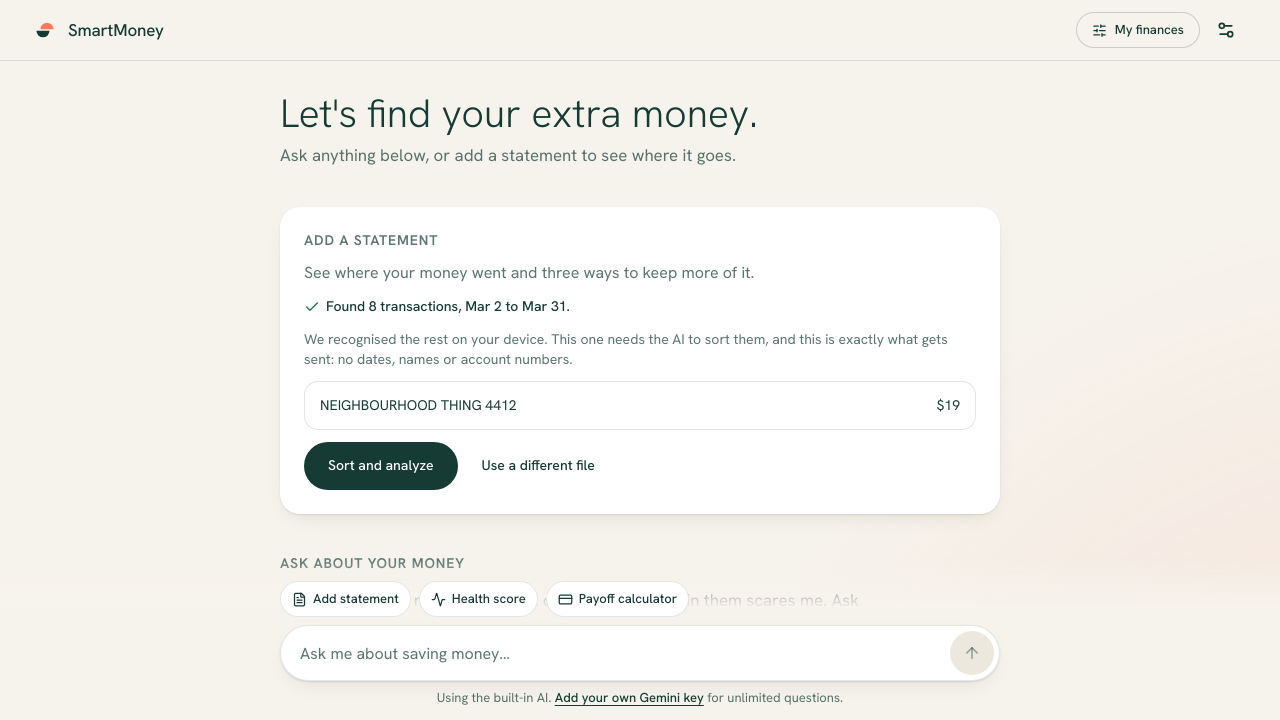
Test: statements › shows exactly what will be sent, then the analysis and fixes
Earlier steps of the test are not shown.
Expected: the number of list items is 1, top-left (320, 396), bottom-right (960, 414)
Expected: the text "NEIGHBOURHOOD THING 4412" is shown, top-left (320, 395), bottom-right (517, 416)
Click the button "Sort and analyze".
click(381, 466)  # box top-left (304, 442), bottom-right (458, 490)
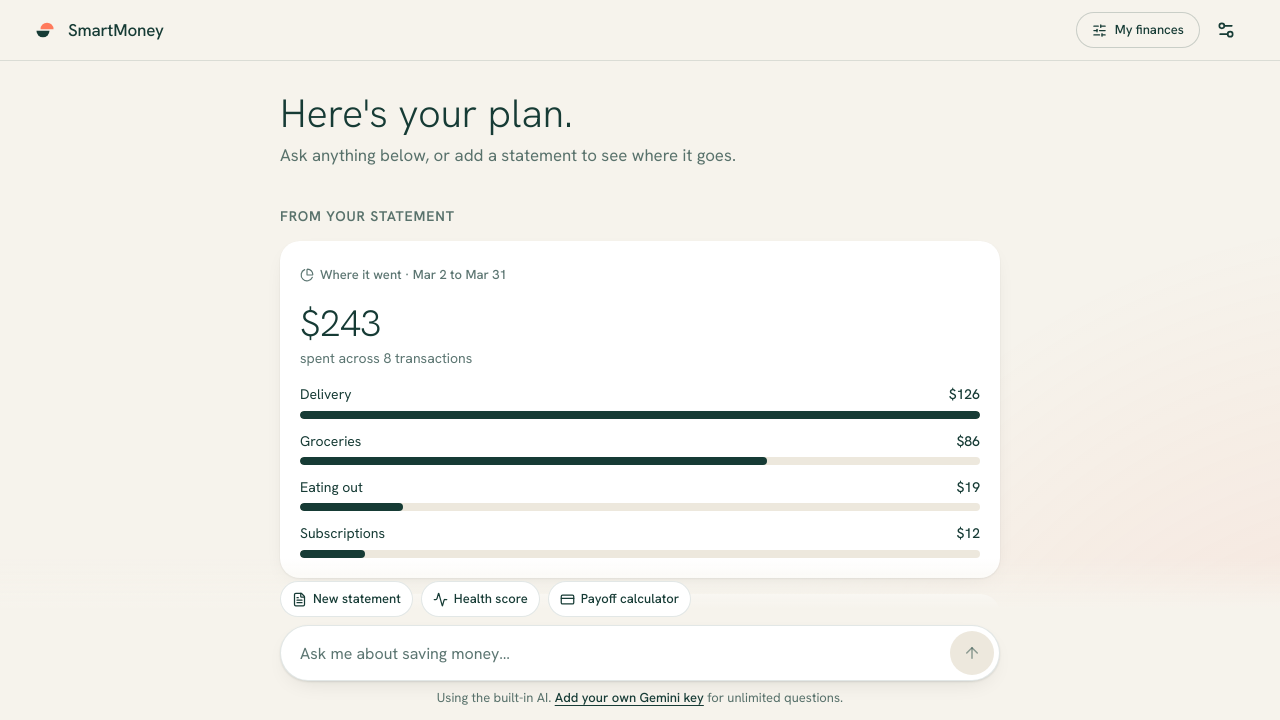
Expected: the text "Halve the delivery orders" is shown, top-left (316, 671), bottom-right (497, 694)
Expected: the element "Where it went" is shown, top-left (280, 241), bottom-right (1000, 578)
